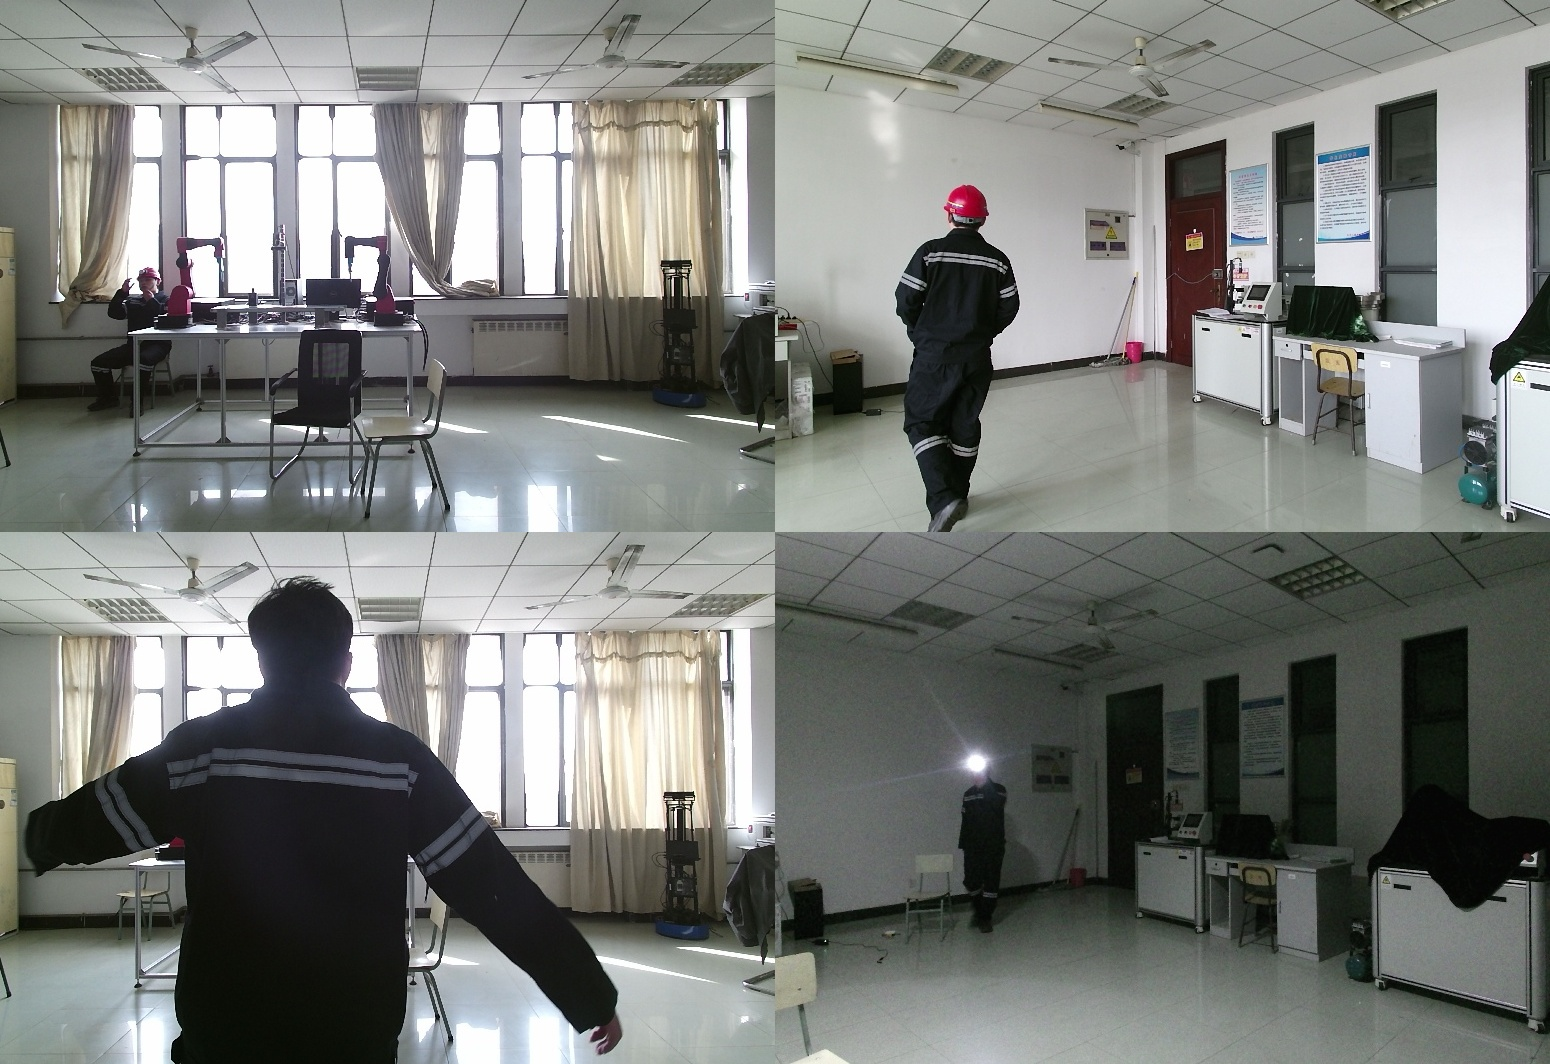person: (28, 583, 618, 1064), (888, 182, 1024, 532), (83, 266, 172, 416), (956, 756, 1019, 940)
